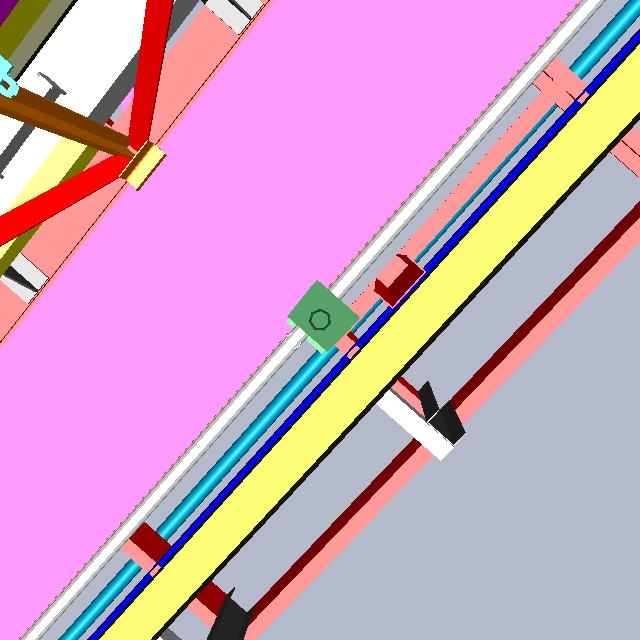Poste: (307, 306, 334, 330)
Soporte: (357, 225, 435, 318)
